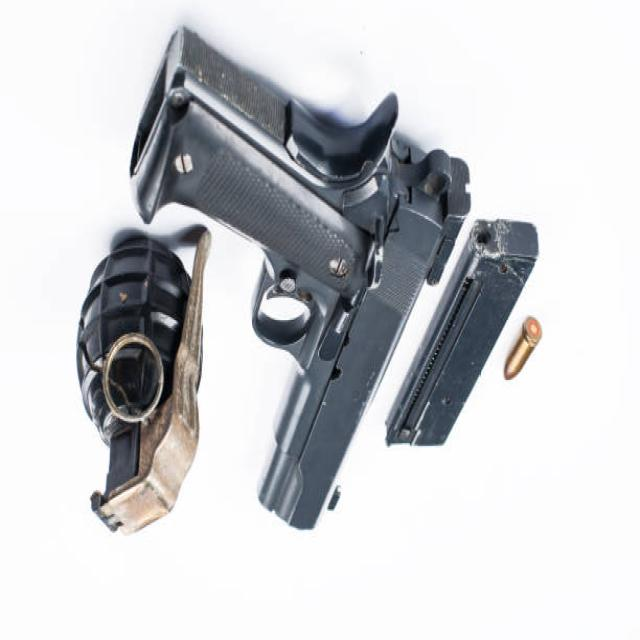grenade: (74, 221, 218, 538)
